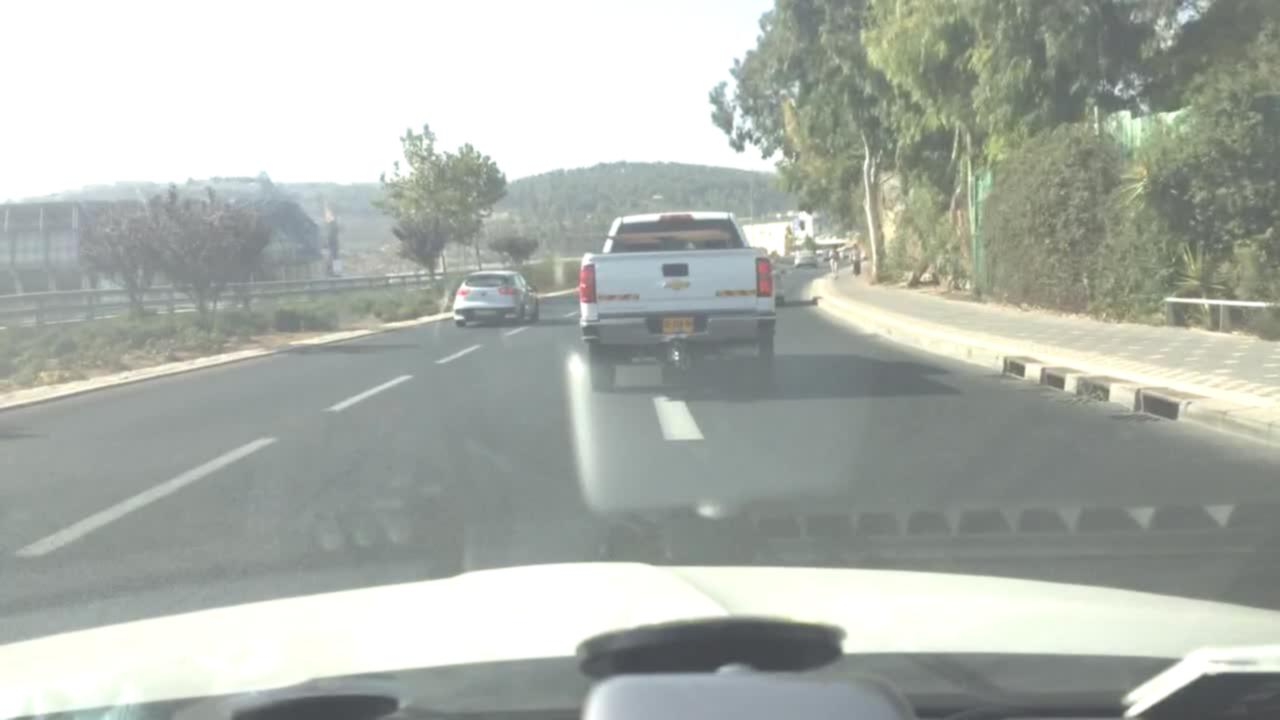chevrolet: (661, 276, 693, 299)
